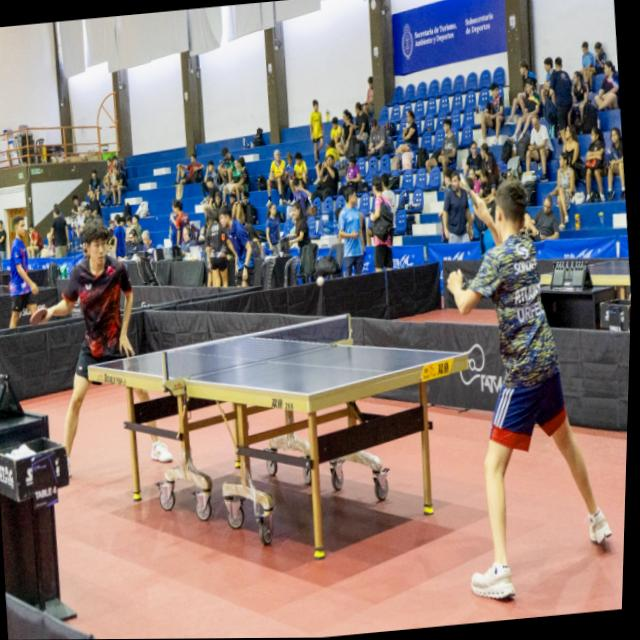TT Net: (160, 313, 353, 391)
TT Racket: (453, 166, 481, 216), (26, 300, 49, 332)
TT Table: (89, 332, 466, 396)
